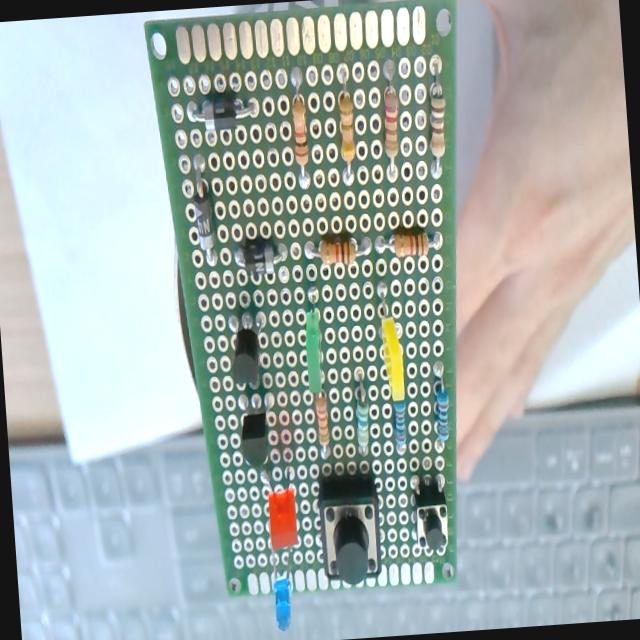diode: (184, 151, 220, 269), (184, 84, 258, 132), (228, 232, 286, 278)
led: (372, 290, 408, 400), (258, 464, 300, 550), (266, 544, 300, 636), (298, 290, 327, 388)
resistor: (280, 62, 321, 192), (370, 62, 408, 183), (329, 64, 364, 190), (418, 62, 454, 179), (374, 224, 444, 272), (302, 226, 372, 266), (428, 380, 453, 450), (352, 379, 371, 456), (312, 390, 332, 458), (390, 402, 410, 452)
switch: (314, 472, 384, 582), (410, 483, 451, 555)
transistor: (227, 304, 266, 389), (240, 397, 270, 464)
